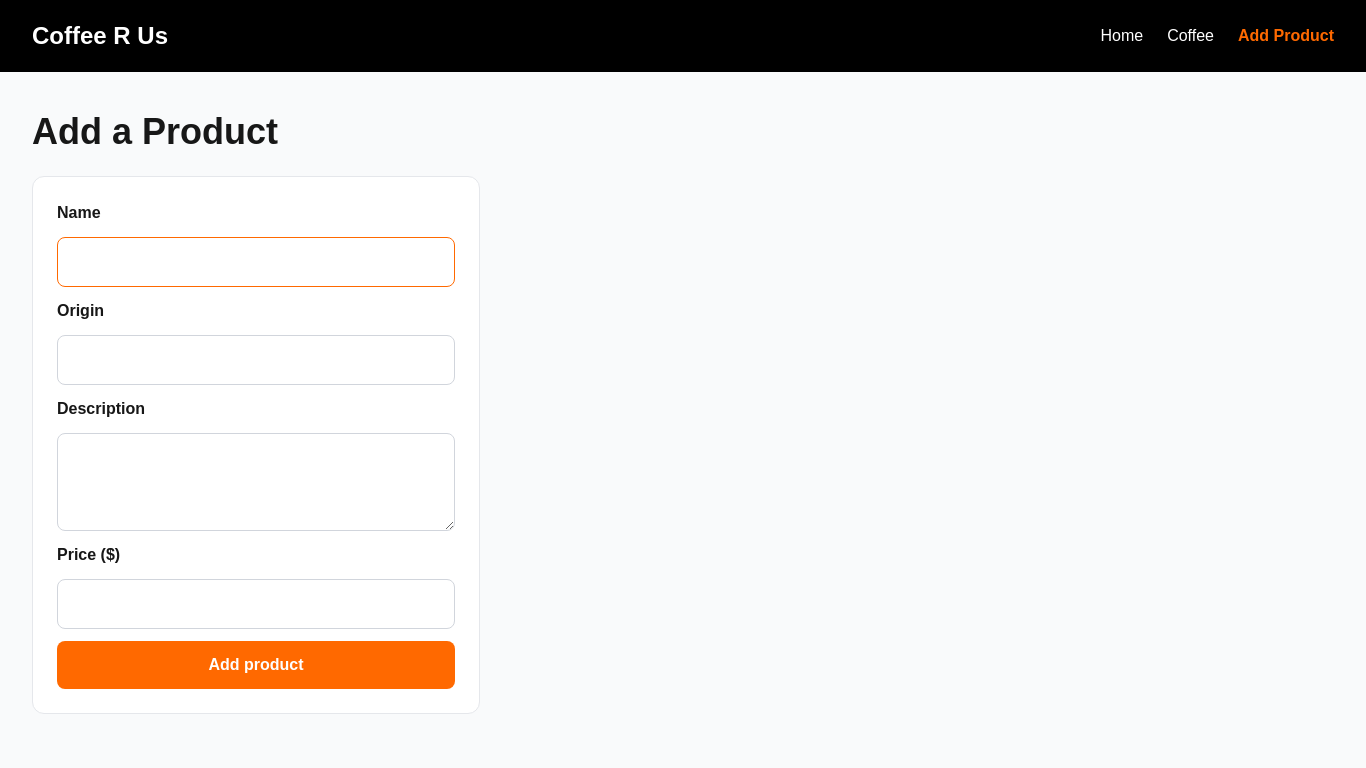
Test: the administrator can add a product
Type "Night Owl" into the field labelled "Name" at (256, 262), box [57,237,455,287]
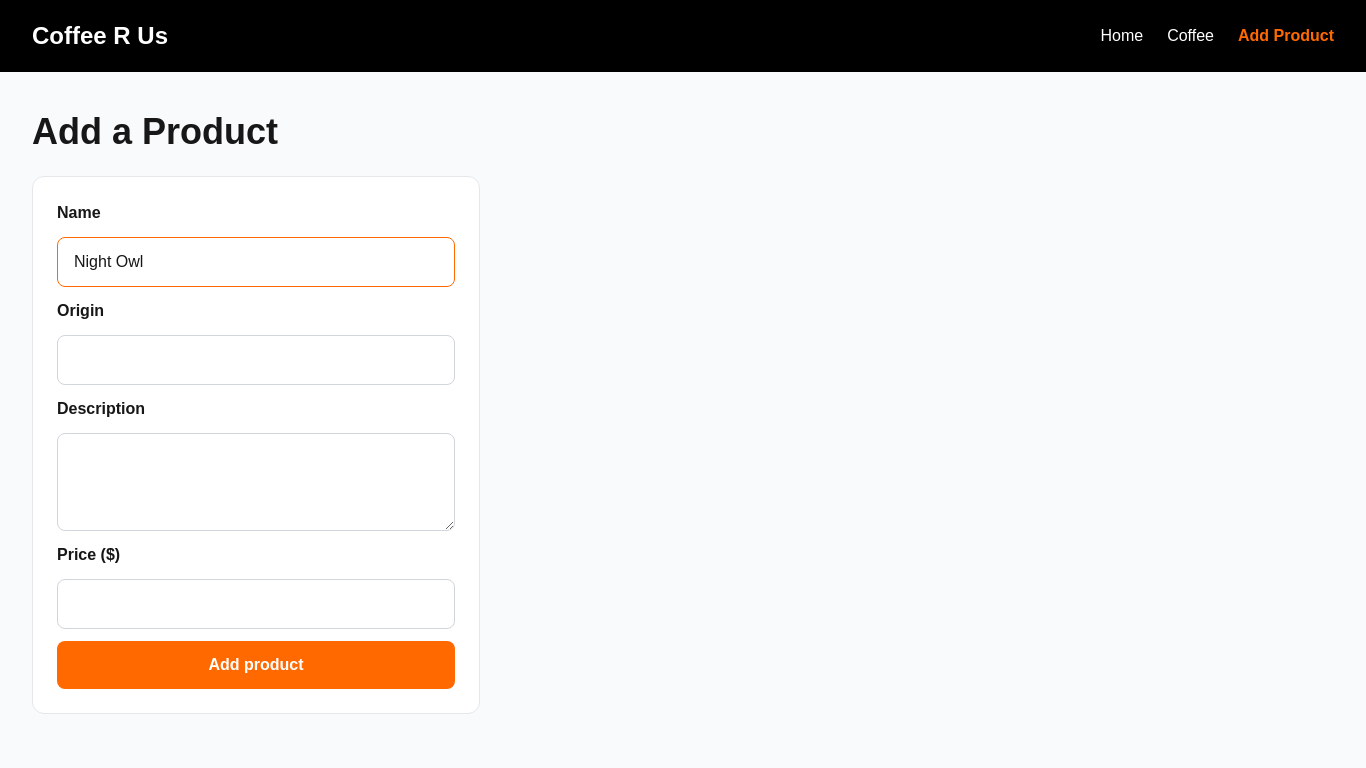
Type "Kenya" into the field labelled "Origin" at (256, 360), box [57,335,455,385]
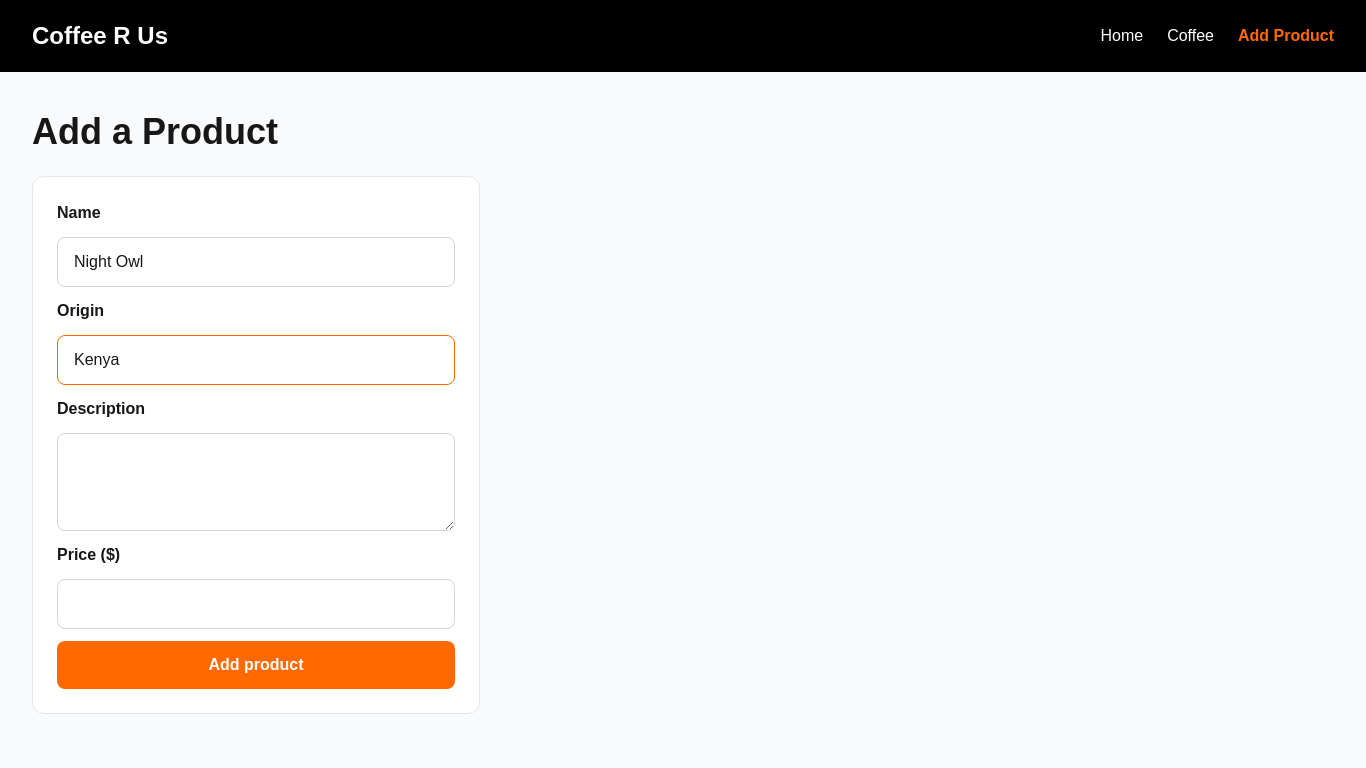
Type "Bold and chocolatey" into the text box labelled "Description" at (256, 482), box [57,433,455,531]
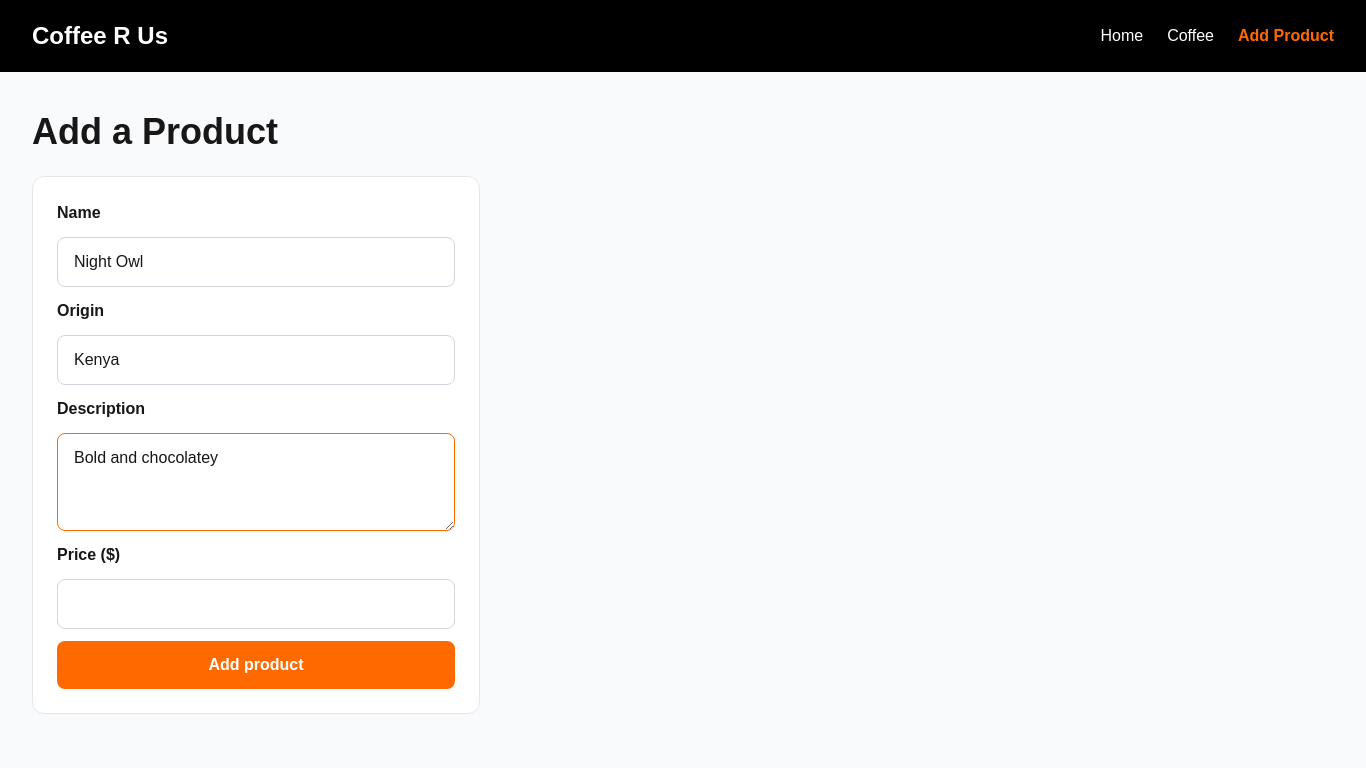
Type "16" into the number field labelled "Price ($)" at (256, 604), box [57,579,455,629]
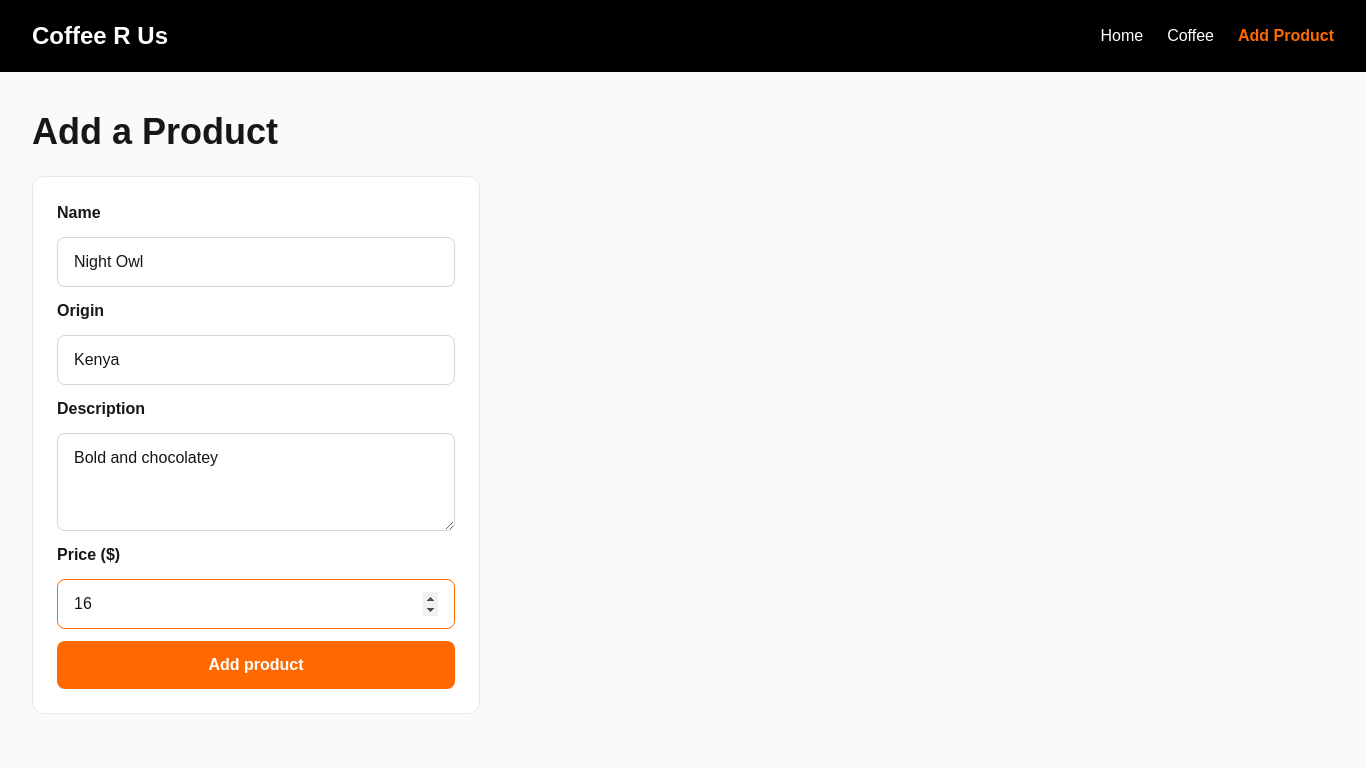
Click the button "Add product" at (256, 665), box [57,641,455,689]
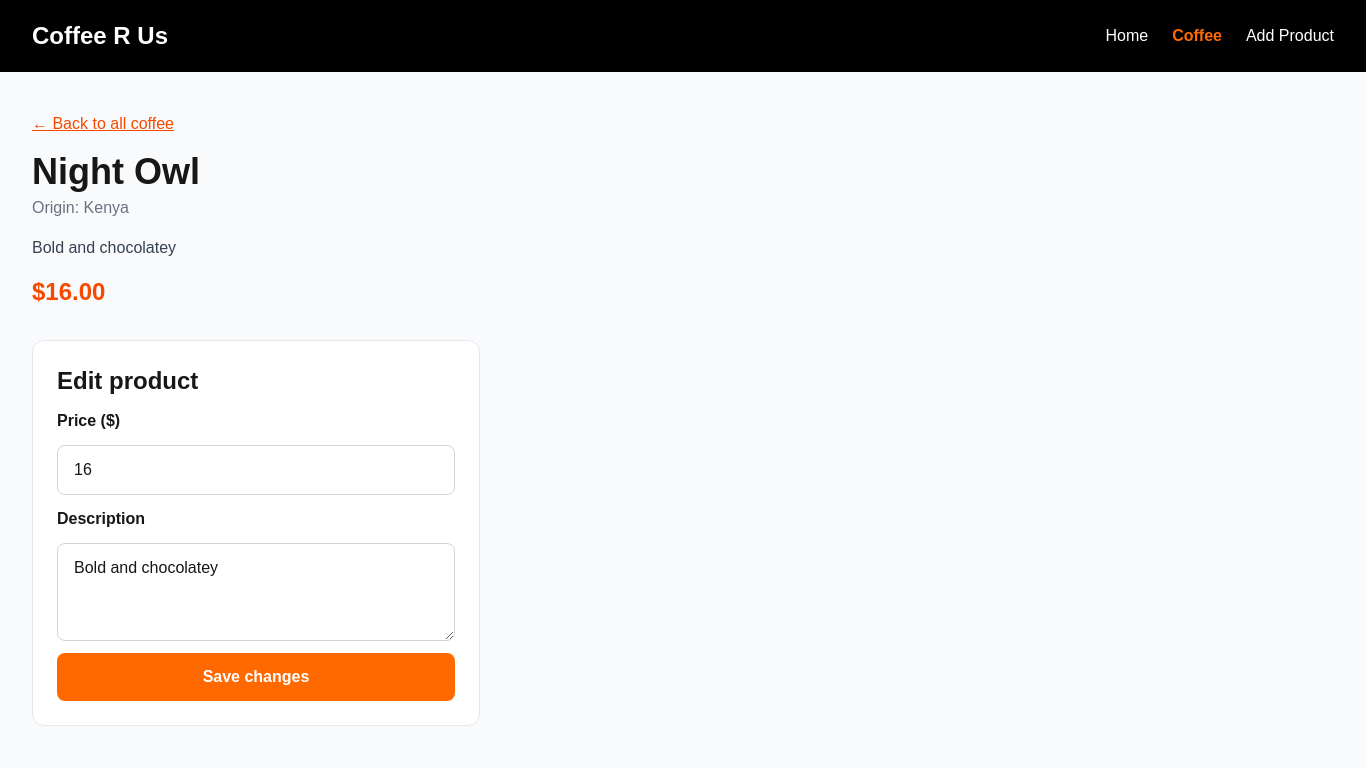
Check: the heading "Night Owl" is shown, box [32,151,200,192]
